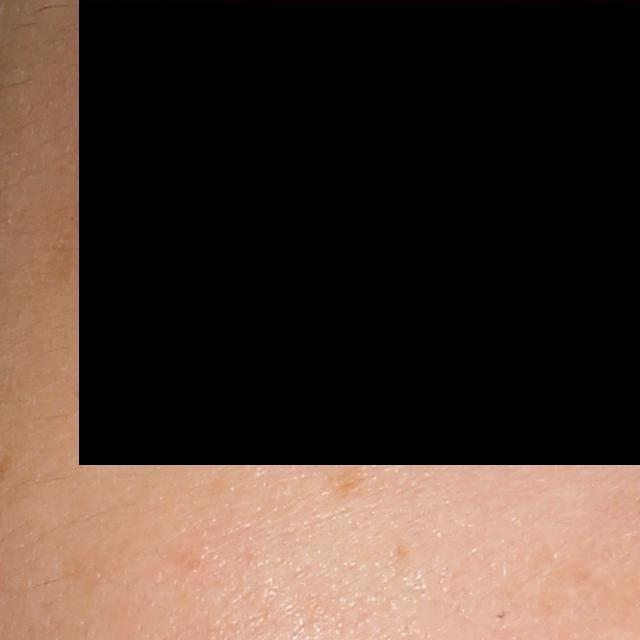melasma: (324, 463, 378, 502)
